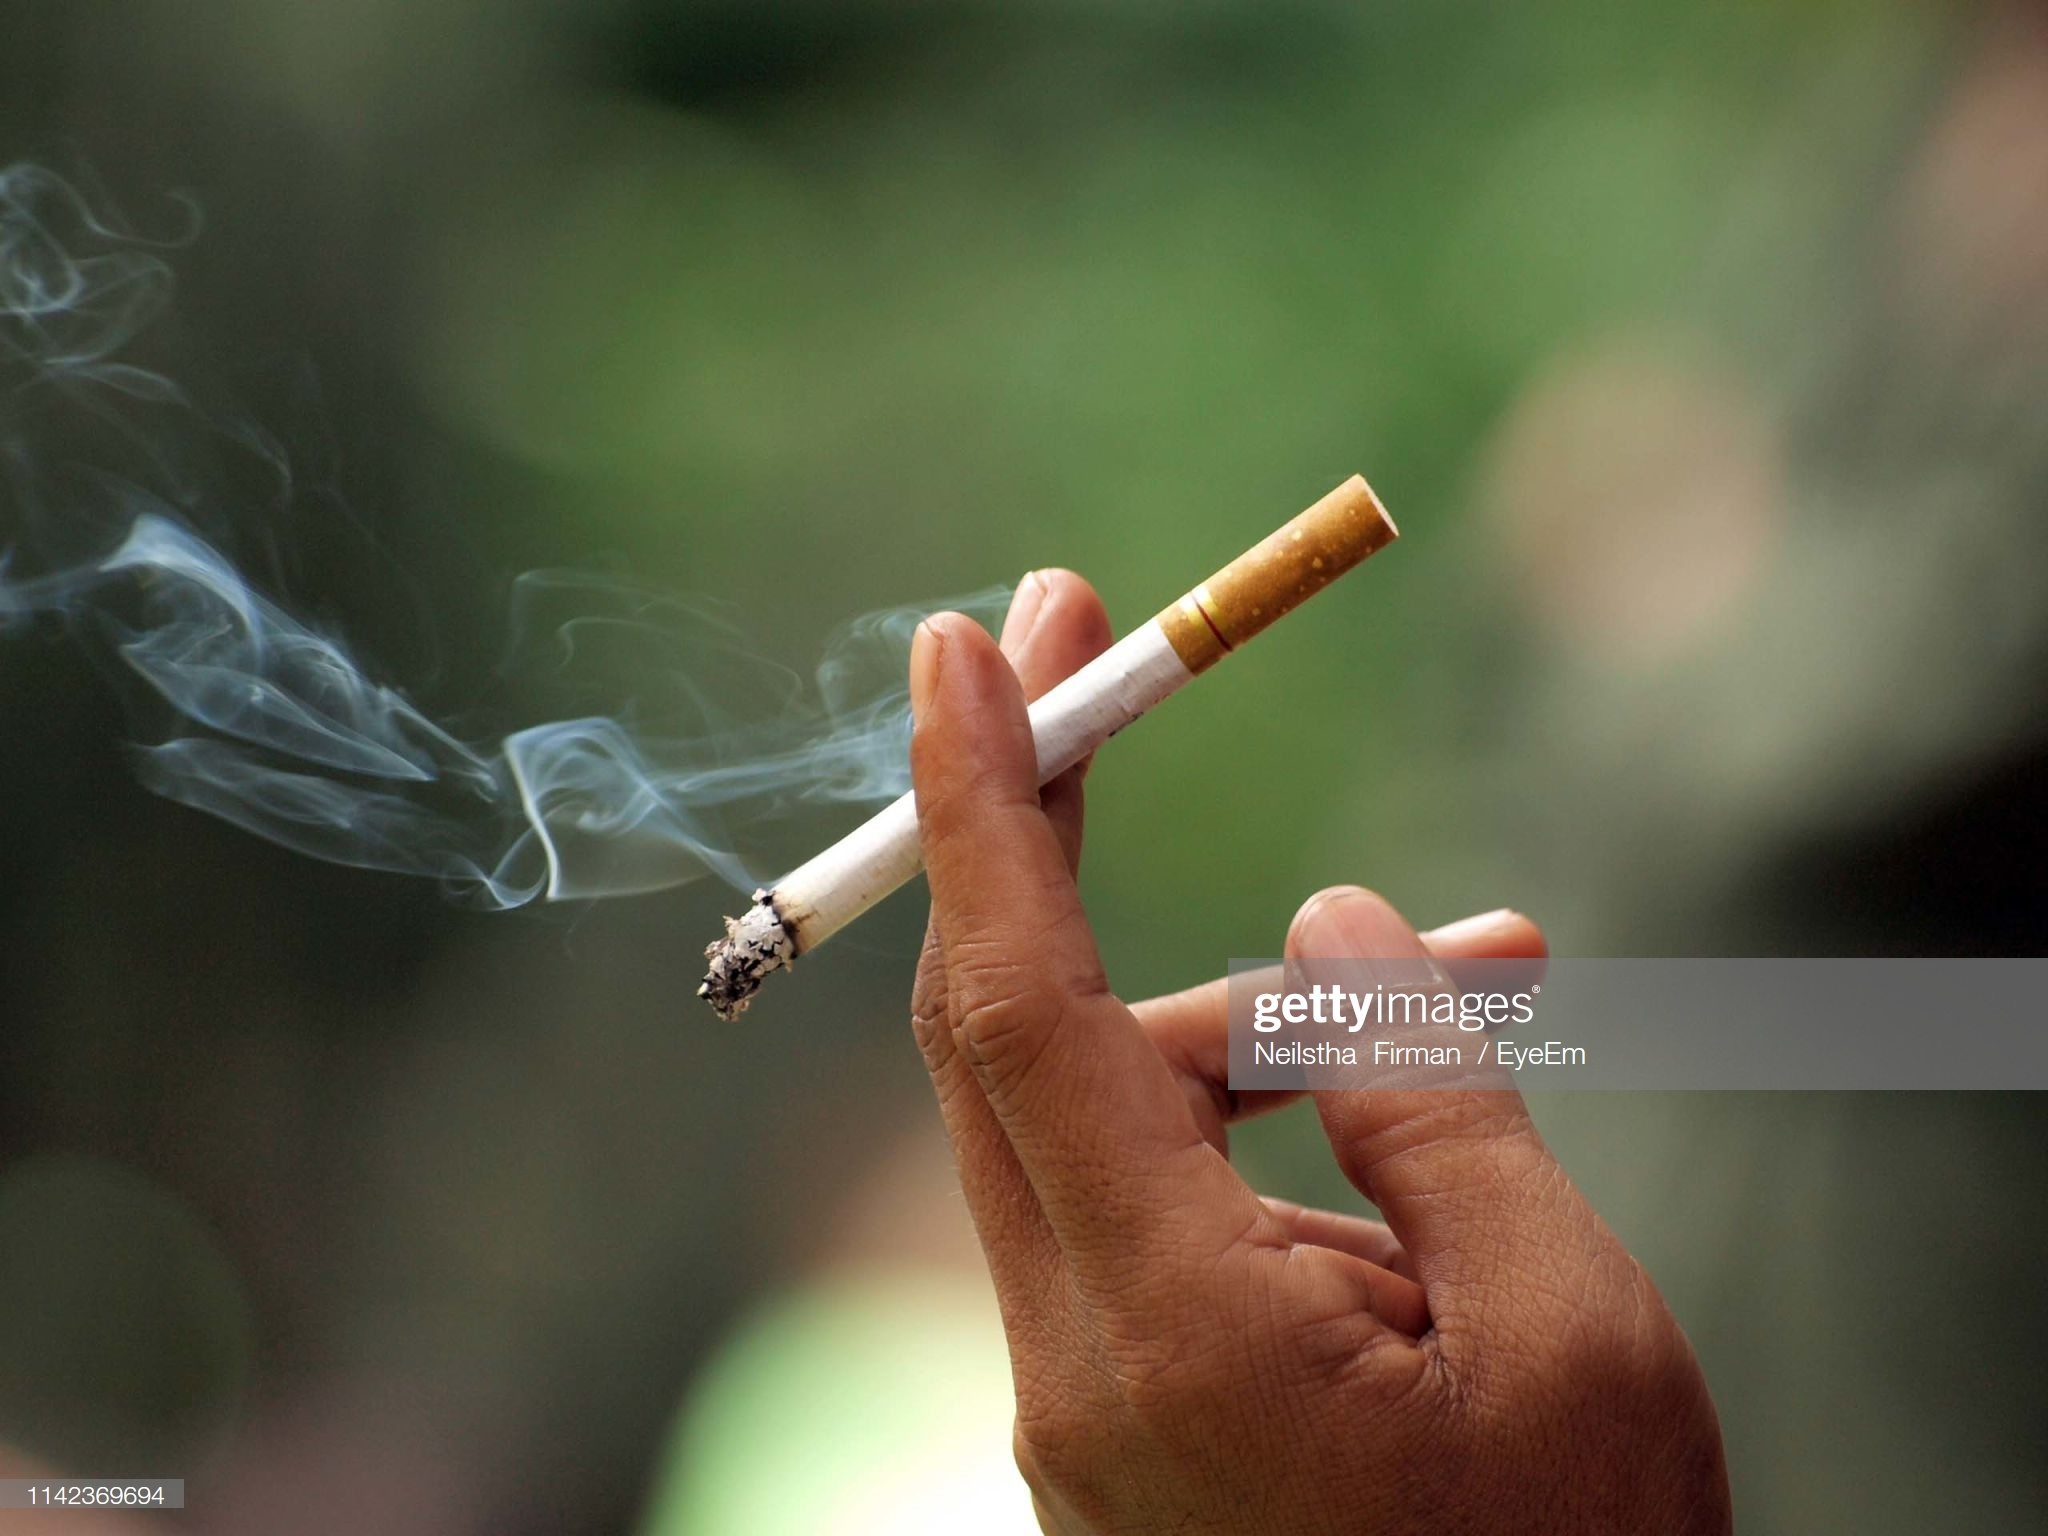sigaretta: (705, 473, 1384, 986)
